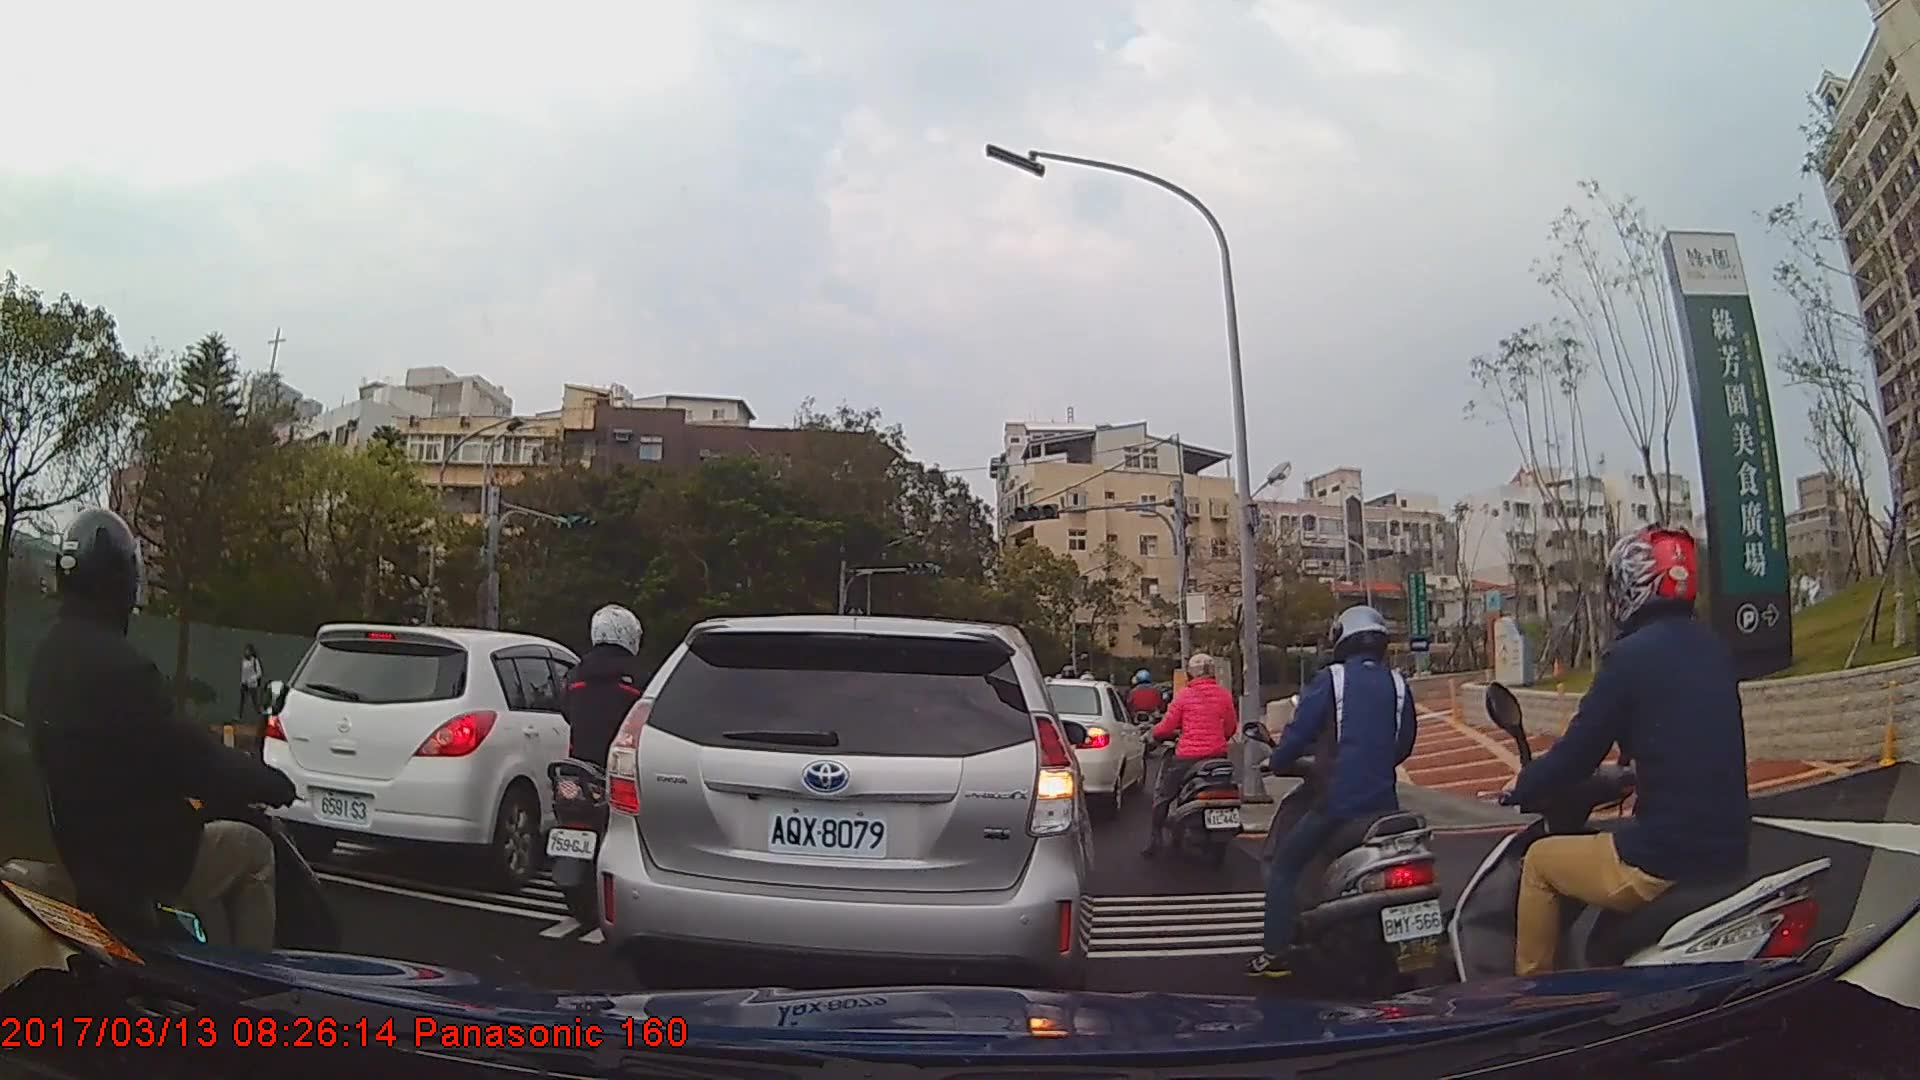pedestrian: (232, 645, 267, 724)
rider: (1445, 526, 1835, 1058), (1, 503, 358, 1080), (1241, 605, 1447, 1000), (541, 605, 686, 927), (1138, 652, 1246, 865), (1125, 669, 1166, 763)
vehicle: (604, 607, 1095, 985), (257, 622, 646, 883), (1040, 676, 1147, 817)
